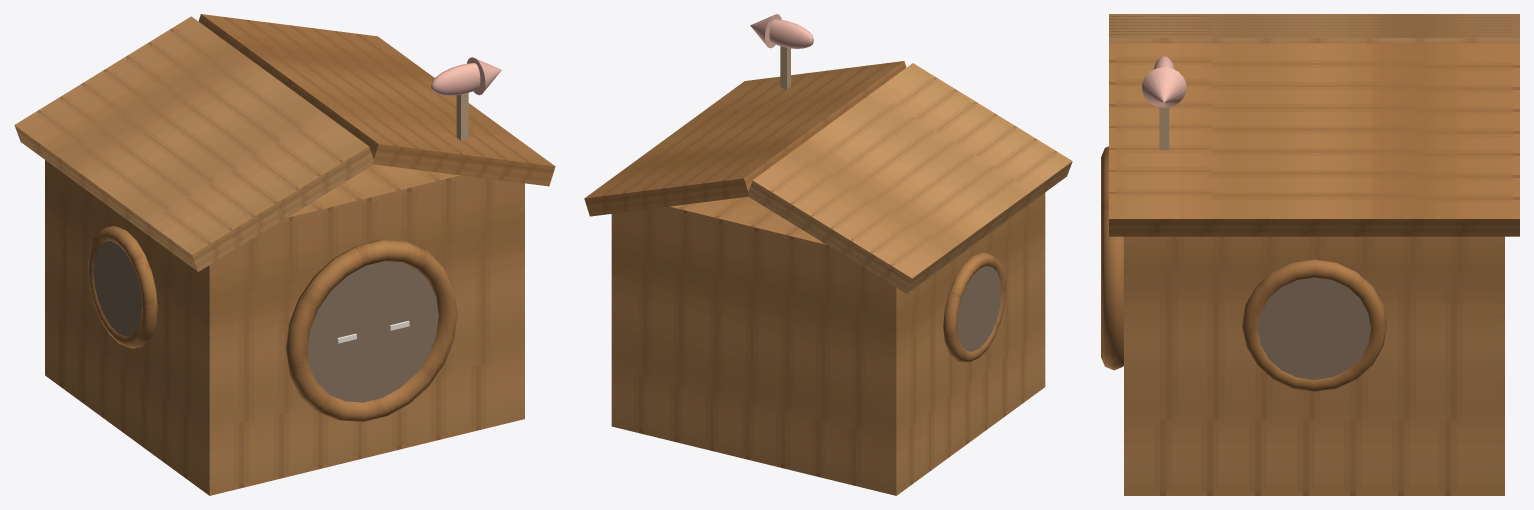
The model's file is cathouse_t0.glb.
3 renders of one model, left to right at view 1: azimuth 30°, elevation 25°; view 2: azimuth 150°, elevation 25°; view 3: azimuth 270°, elevation 25°, orthographic. The views are drawn at different scales.
Visible parts, largest first — view 1: cathouse_t0; view 2: cathouse_t0; view 3: cathouse_t0.
Boxes of the visible parts, left/top/right/bottom form: cathouse_t0: left=14, top=14, right=555, bottom=495; cathouse_t0: left=584, top=14, right=1072, bottom=495; cathouse_t0: left=1101, top=14, right=1519, bottom=495.
Size of the model in its own units: 0.9681 by 0.905 by 0.836.
Materials: 8 (3 with a texture image).
